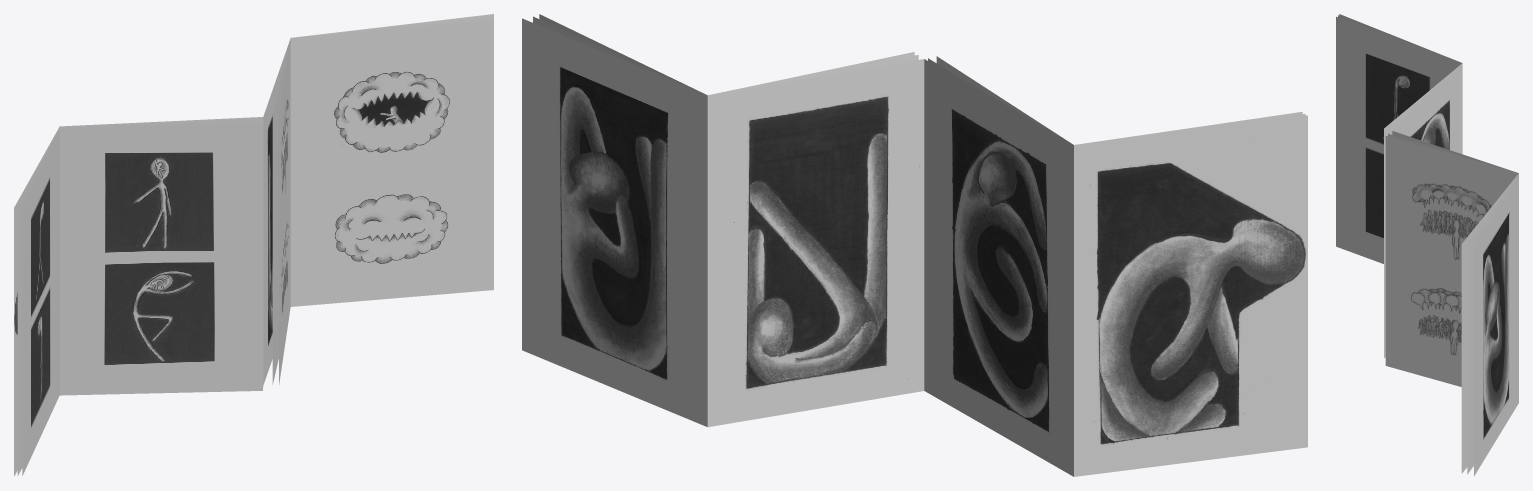
Rendered from fanzin telo.glb.
3 views of the same model, side by side, from view 1: azimuth 30°, elevation 25°; view 2: azimuth 150°, elevation 25°; view 3: azimuth 270°, elevation 25° (orthographic). The views are drawn at different scales.
Visible parts, largest first — view 1: fanzine body; view 2: fanzine body; view 3: fanzine body.
Part boxes in pixels (x1,y1,x2,y2): fanzine body: (14,14,493,476); fanzine body: (522,14,1307,476); fanzine body: (1336,14,1518,476).
Bounding box in the file's own units: 3.01 × 1.39 × 0.9992.
Materials: 8 (8 with a texture image).
